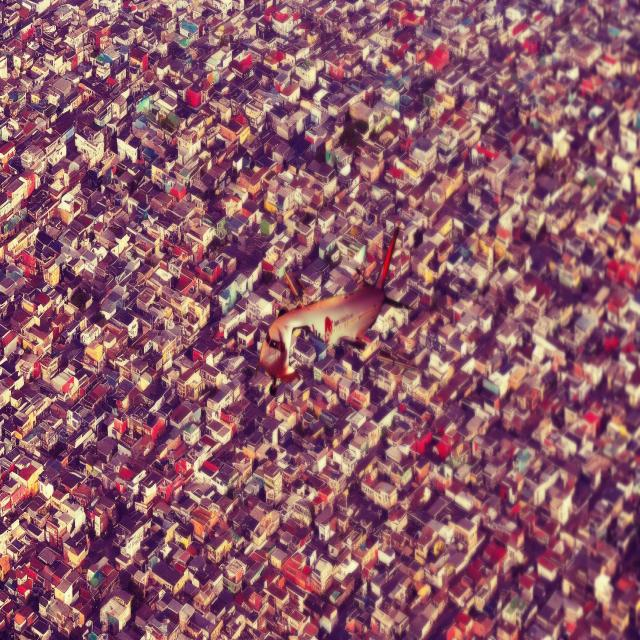airplane: (255, 224, 406, 386)
